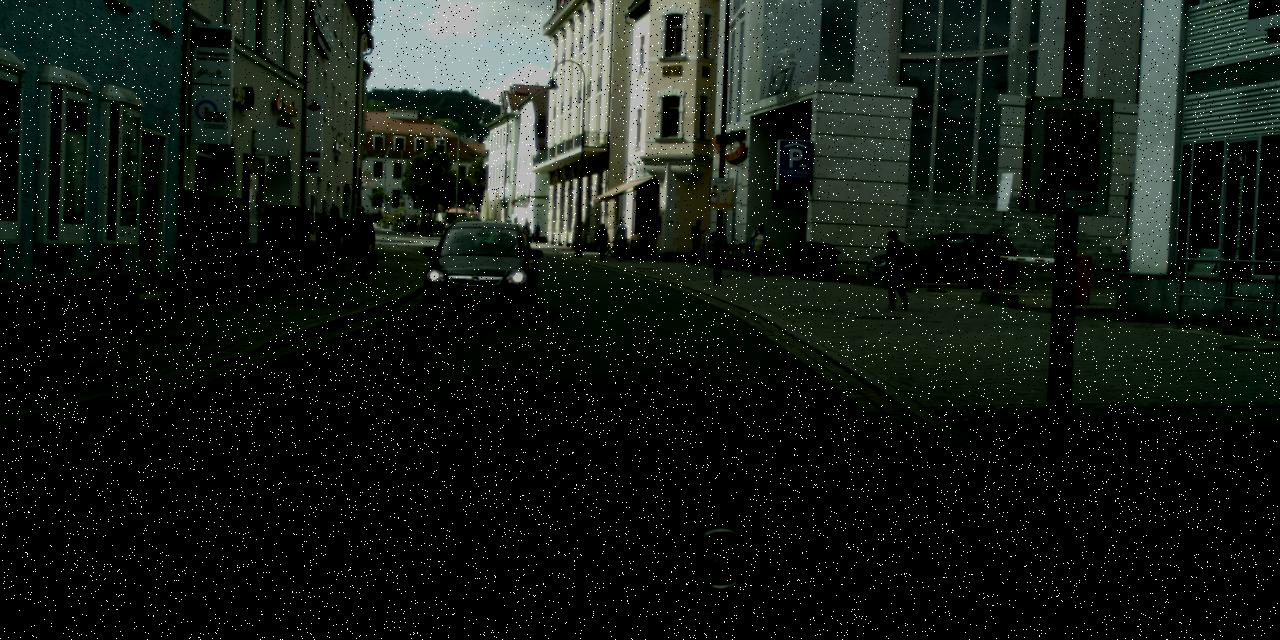ped: (879, 229, 910, 309), (344, 206, 374, 276), (318, 206, 346, 274), (749, 222, 770, 274), (686, 219, 706, 265), (612, 218, 629, 261), (594, 222, 610, 260), (434, 215, 450, 237), (522, 218, 530, 240), (399, 209, 407, 230), (532, 221, 540, 241)
